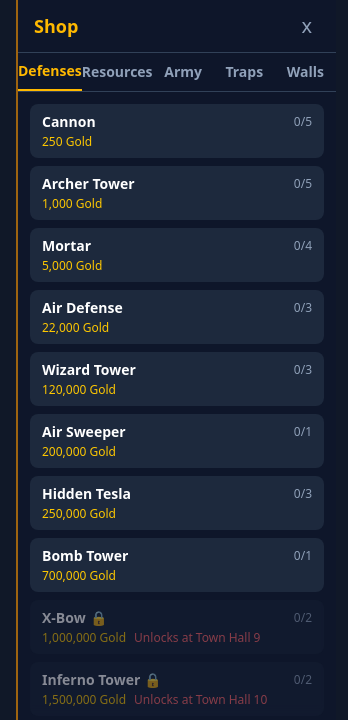
Test: ShopPanel › lists all traps that have a nonzero maxCountByTH entry for the given TH level
The width and height of the screenshot is (348, 720).
Click the button "Traps".
click(244, 72)  # box [214,53,275,91]
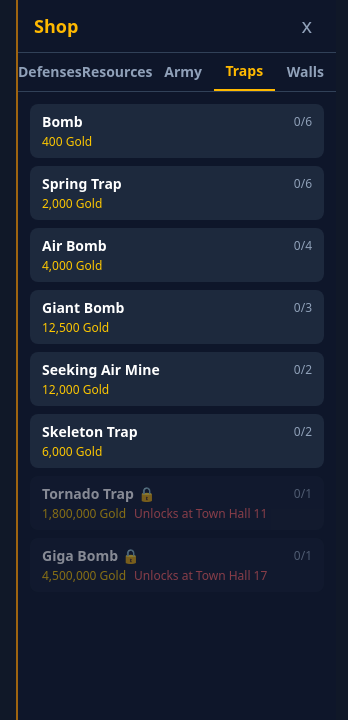
expect the text "Bomb" is shown: met, box [42,112,83,132]
expect the text "Spring Trap" is shown: met, box [42,174,122,194]
expect the text "Air Bomb" is shown: met, box [42,236,107,256]
